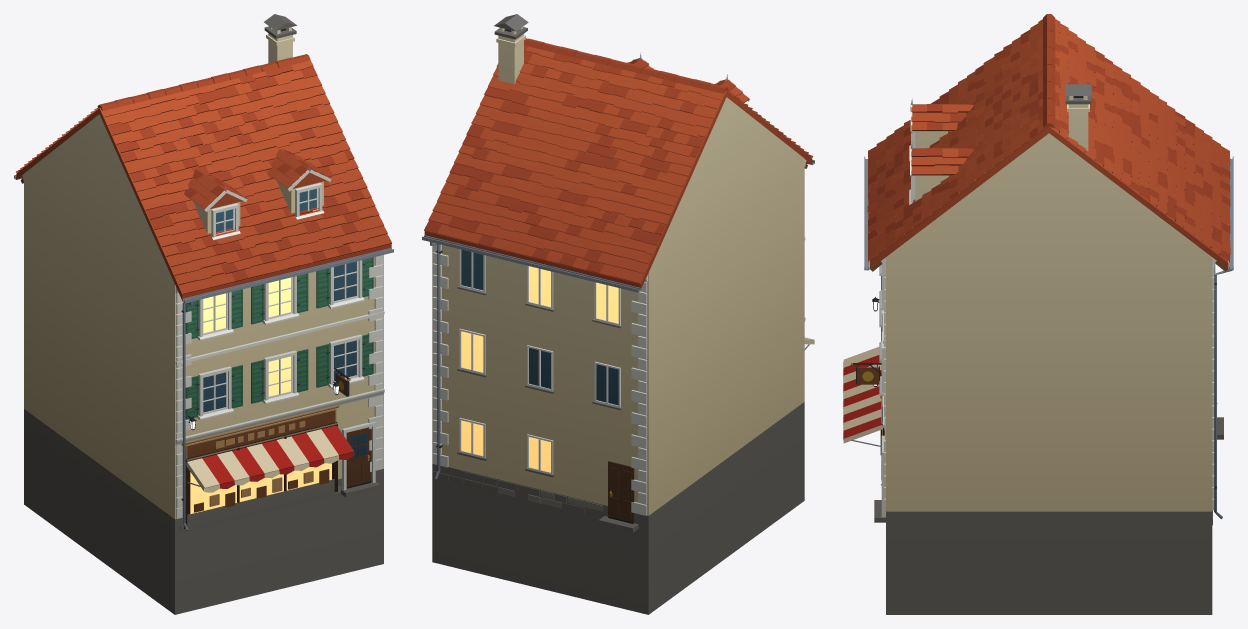
The model's file is TownHouse_A.fbx.
3 renders of one model, left to right at view 1: azimuth 30°, elevation 25°; view 2: azimuth 150°, elevation 25°; view 3: azimuth 270°, elevation 25°, orthographic. The views are drawn at different scales.
Parts seen in each view (by area): view 1: TownHouse_A_LOD0; view 2: TownHouse_A_LOD0; view 3: TownHouse_A_LOD0.
Boxes of the visible parts, box(x1,y1,x2,y2) form: TownHouse_A_LOD0: box(14, 14, 393, 614); TownHouse_A_LOD0: box(422, 14, 814, 614); TownHouse_A_LOD0: box(843, 14, 1233, 614).
Size of what is drawn, in the model's own units: 8 by 17.7 by 11.97.
1 material, 1 textured.
